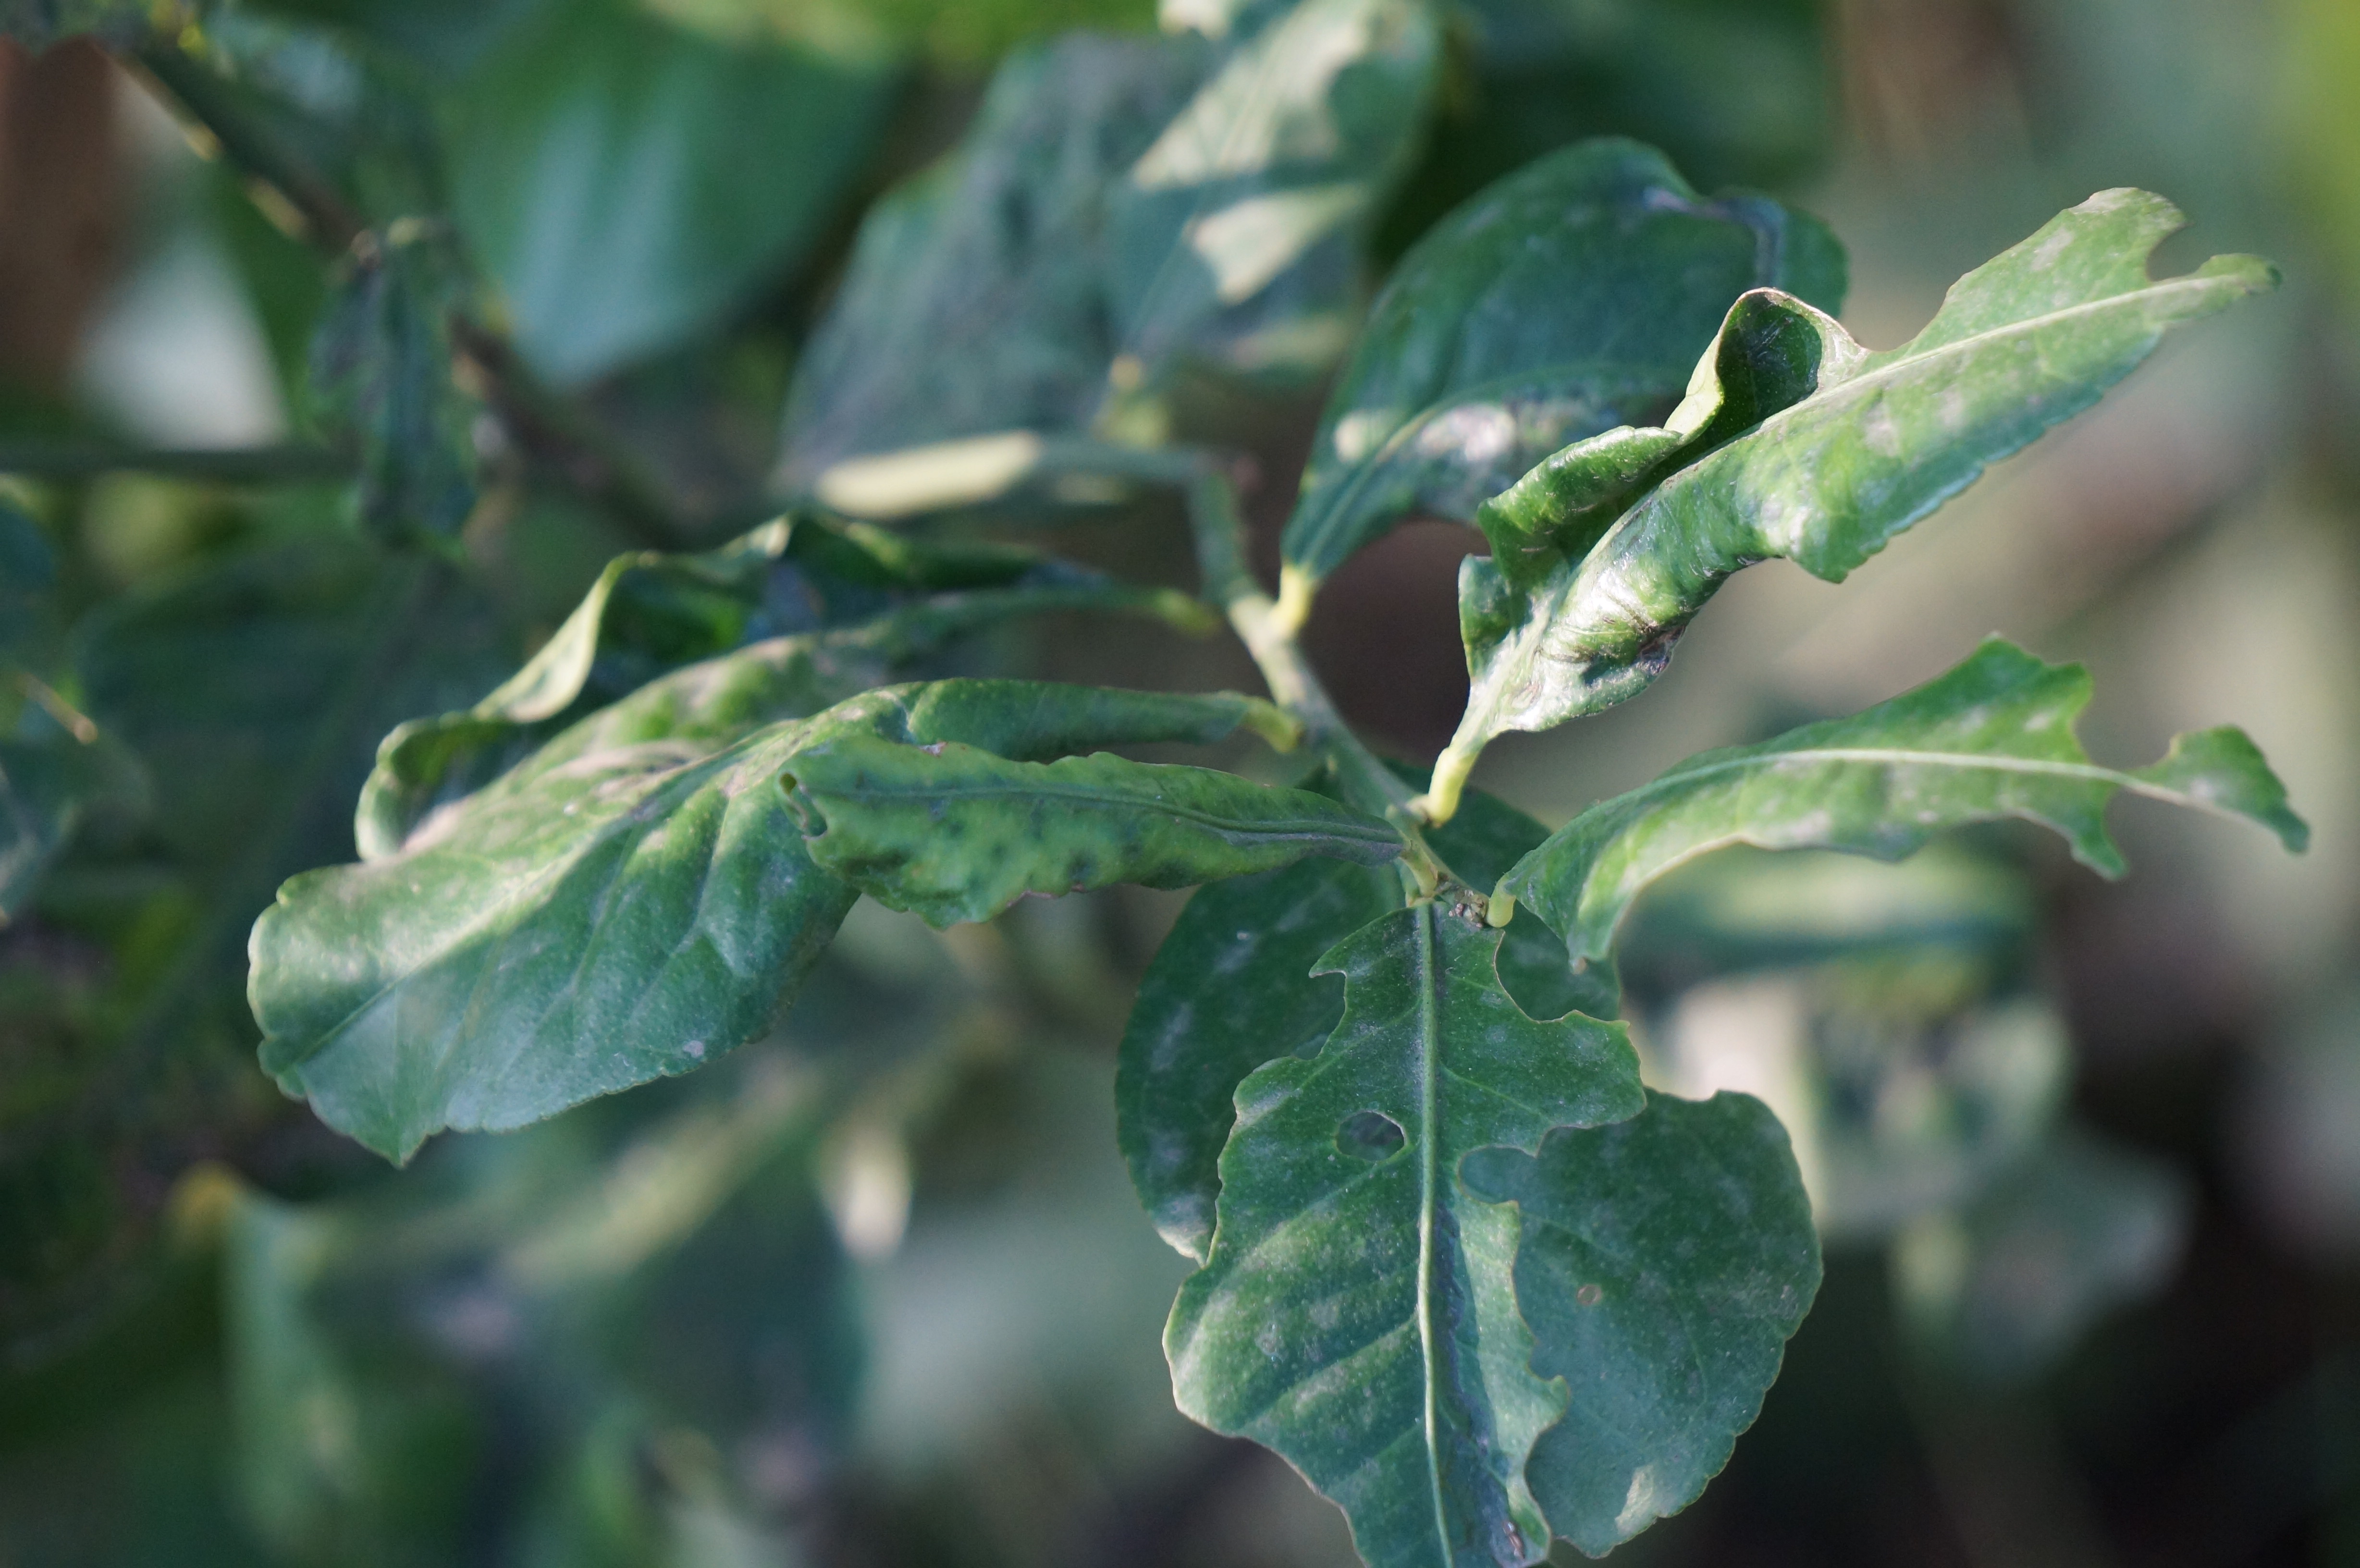curly: (1424, 175, 2294, 824), (761, 721, 1428, 936)
